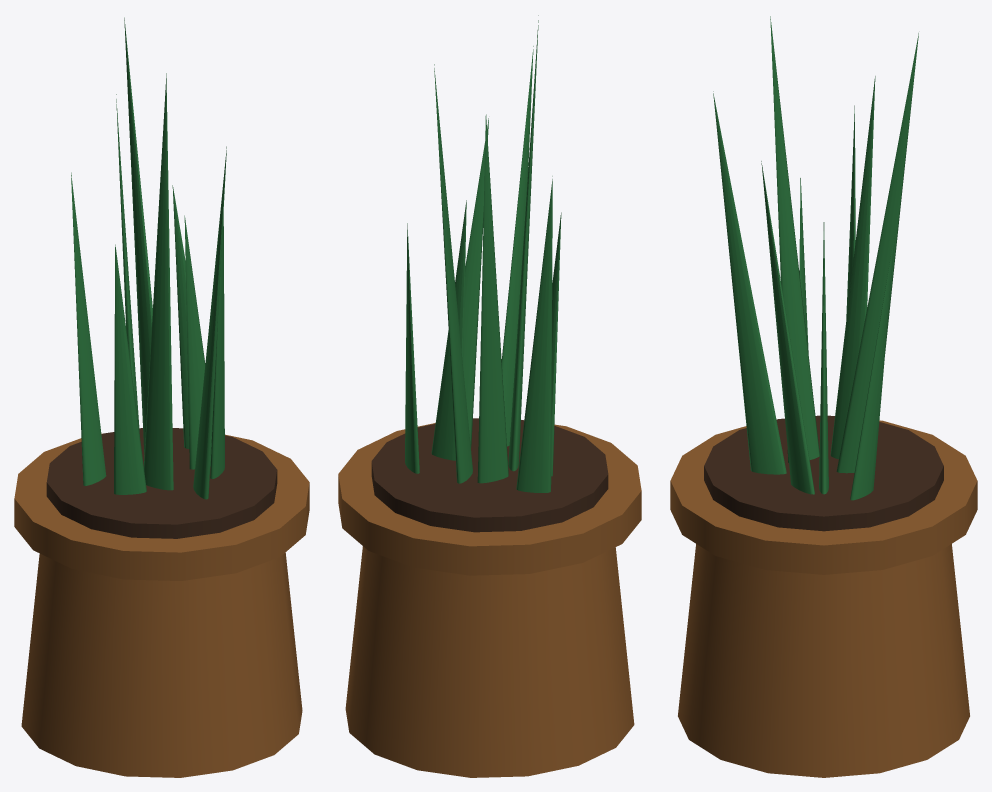
3 views of the same model, side by side, from view 1: azimuth 30°, elevation 25°; view 2: azimuth 150°, elevation 25°; view 3: azimuth 270°, elevation 25° (orthographic). The views are drawn at different scales.
Parts seen in each view (by area): view 1: indoor-snake-plant; view 2: indoor-snake-plant; view 3: indoor-snake-plant.
Part boxes in pixels (x1,y1,x2,y2): indoor-snake-plant: [14, 17, 309, 777]; indoor-snake-plant: [338, 15, 641, 777]; indoor-snake-plant: [670, 16, 977, 777].
Bounding box in the file's own units: 0.378 × 0.9391 × 0.378.
